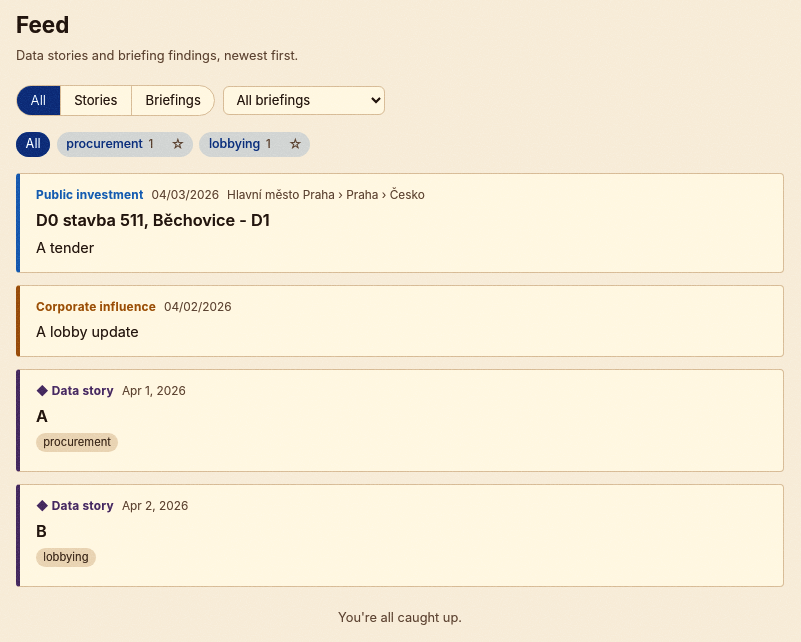
Test: FeedView › clicking a chip writes ?tag= and refetches the filtered list
Click the button with test id "tag-chip-procurement": (110, 145) [57,132,163,157]
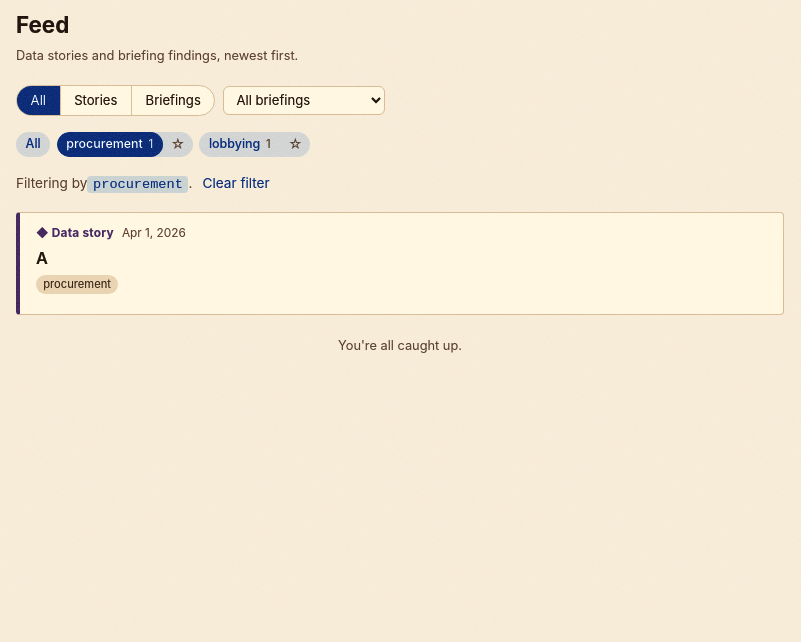
Expected: the element with test id "feed-active-filter" is shown, [16,173,270,194]
